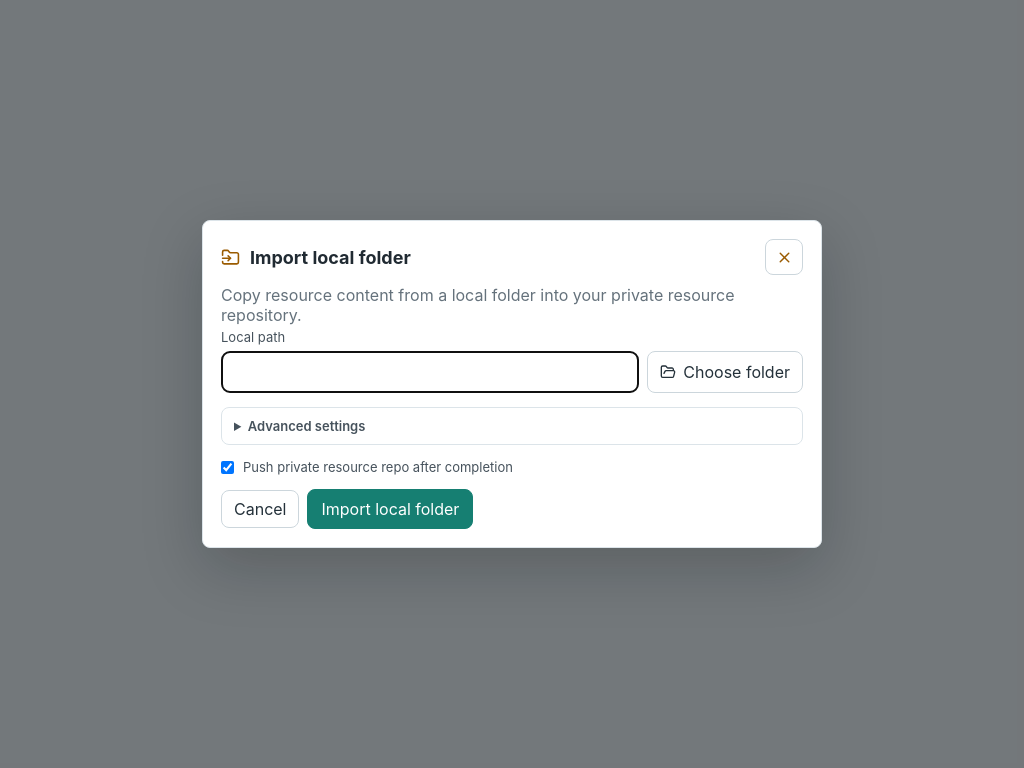
ImportLocalDialog › renders a dedicated local form and keeps manual input when folder selection is cancelled
Expected: the dialog "Import local folder" is shown, [202,220,822,548]
Type "D:/resources/manual" into the field labelled "Local path" at (430, 372), box [221,351,639,393]
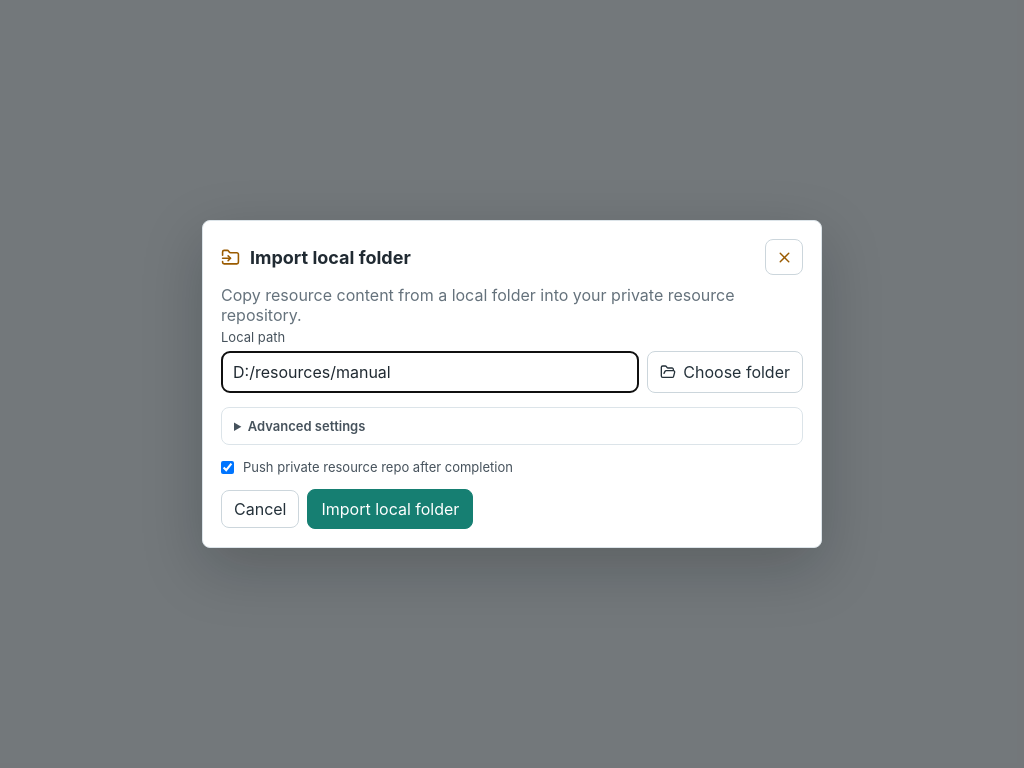
Click the button "Choose folder" at (725, 372), box [647,351,803,393]
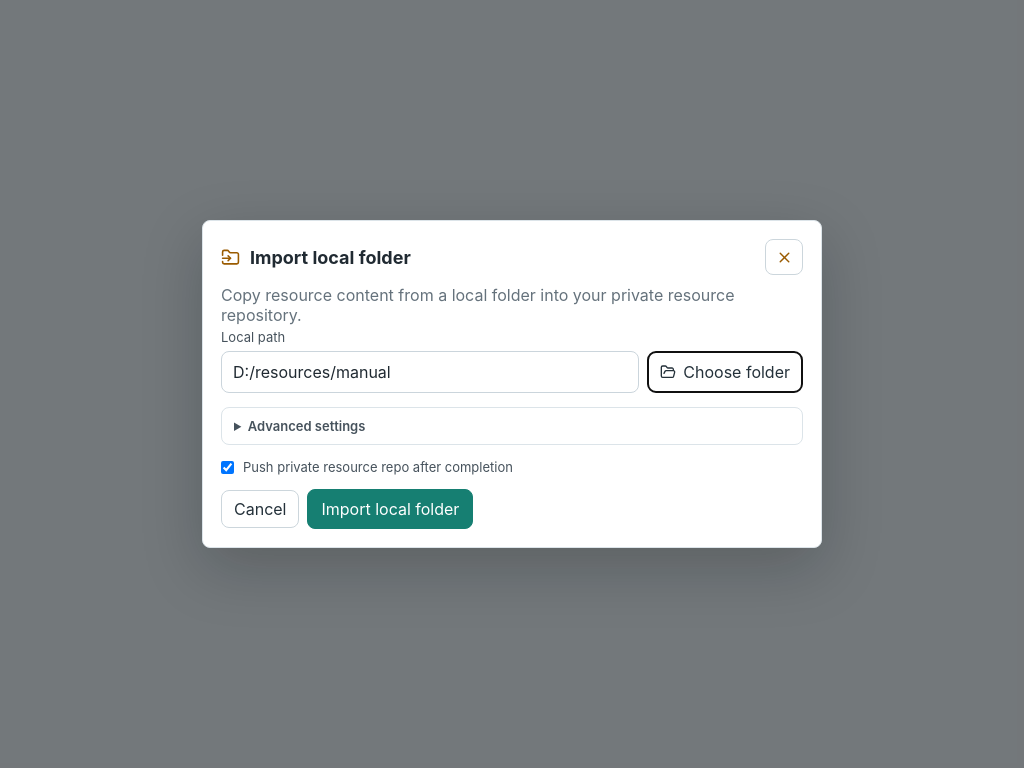
Click the button "Choose folder" at (725, 372), box [647,351,803,393]
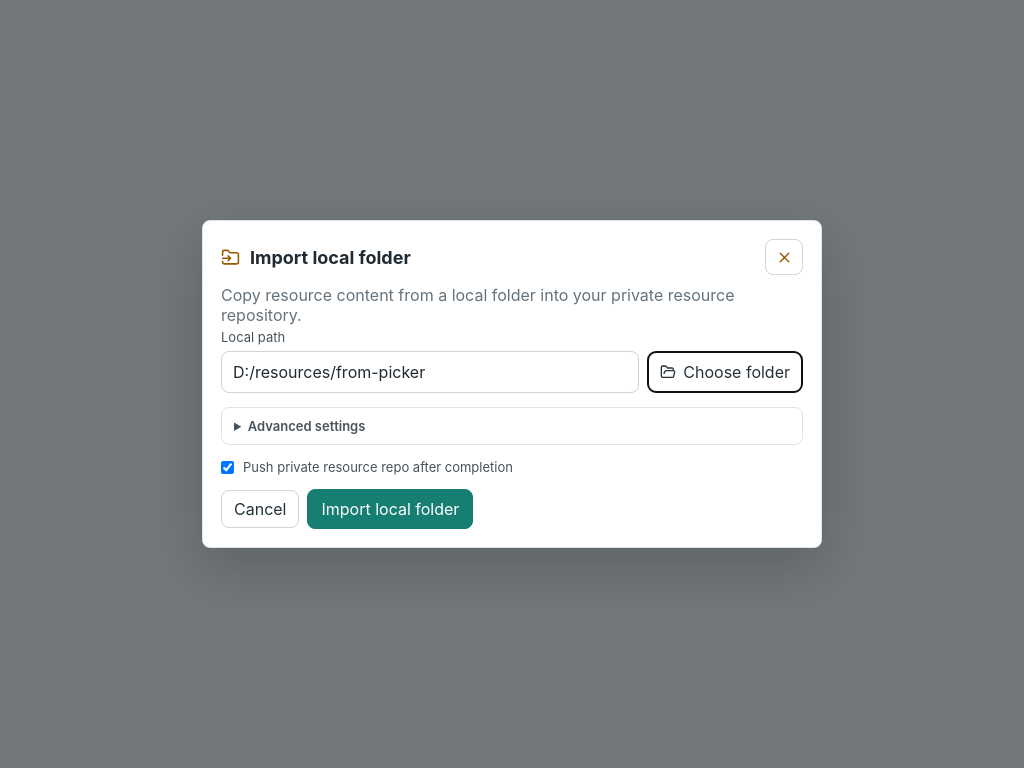
Expected: the field labelled "Local path" holds "D:/resources/from-picker", [221,351,639,393]
